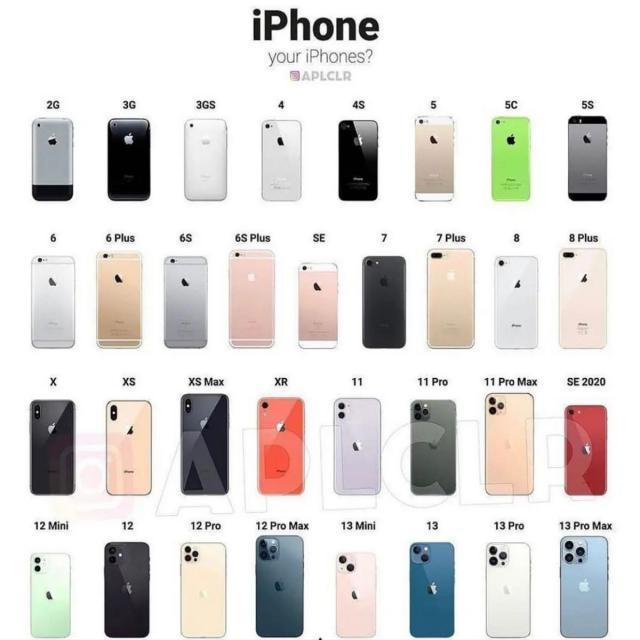phone: (559, 535, 609, 638), (180, 393, 230, 495), (255, 534, 304, 638), (558, 248, 608, 349), (426, 248, 476, 348), (486, 392, 534, 495), (228, 249, 276, 349), (334, 397, 382, 495), (258, 396, 305, 496), (180, 542, 227, 638), (96, 252, 142, 350), (29, 400, 76, 494), (106, 400, 152, 496), (410, 398, 456, 494), (104, 542, 150, 637), (486, 542, 531, 638), (163, 255, 208, 349), (410, 542, 454, 638), (31, 255, 75, 349), (494, 256, 538, 350), (362, 255, 406, 348), (564, 405, 608, 495), (336, 552, 378, 638), (298, 262, 338, 350), (414, 116, 454, 202), (568, 116, 608, 202), (30, 553, 70, 639), (261, 119, 302, 202), (337, 119, 378, 201), (492, 116, 531, 202)
